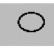no answer: (15, 9, 46, 33)
